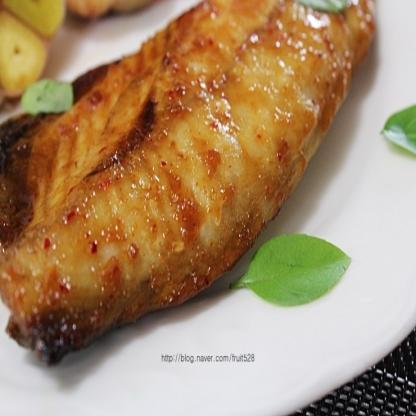Peixe: (0, 0, 388, 363)
